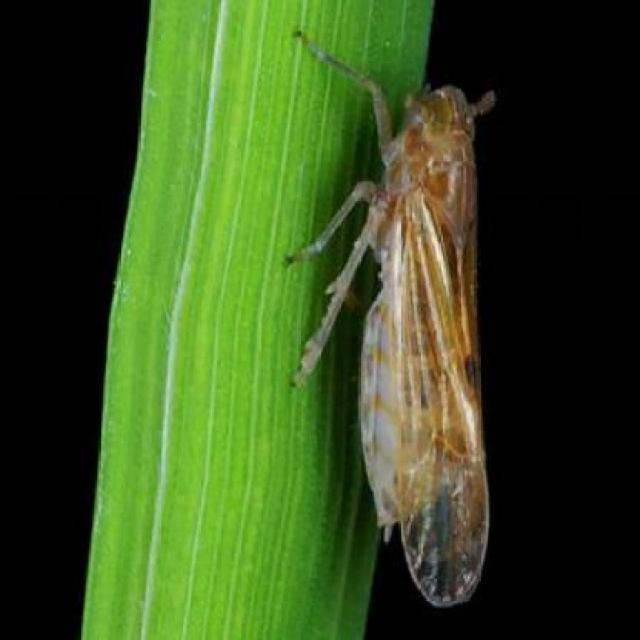brown-planthopper: (361, 65, 492, 597)
